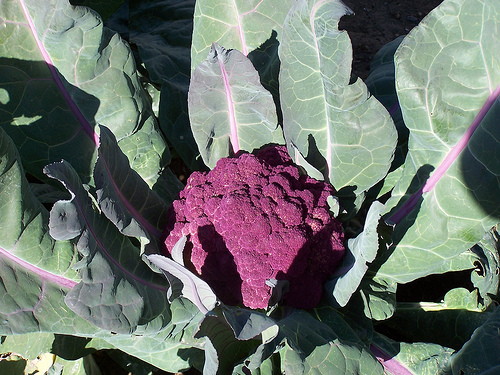cauliflower: (159, 142, 347, 314)
